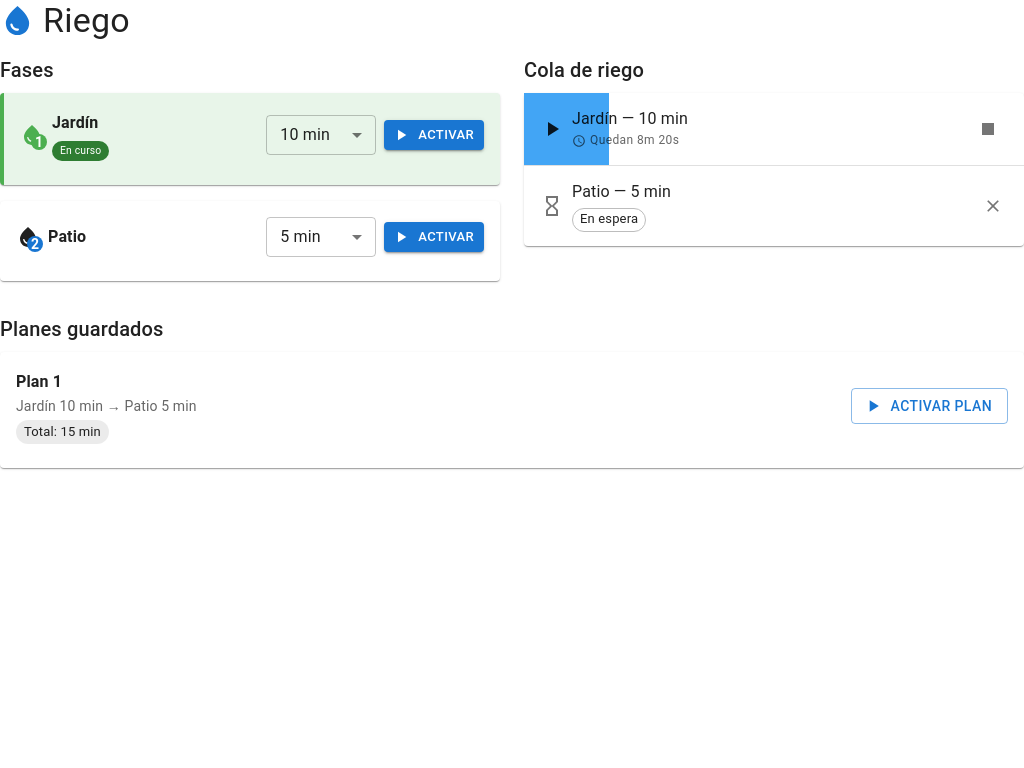
Test: RiegoPage › opens confirmation dialog when queue has items
Check: the heading "Plan 1" is shown, box [16, 372, 62, 391]
Click the button "Activar plan". click: (929, 406)
box: [851, 388, 1008, 424]
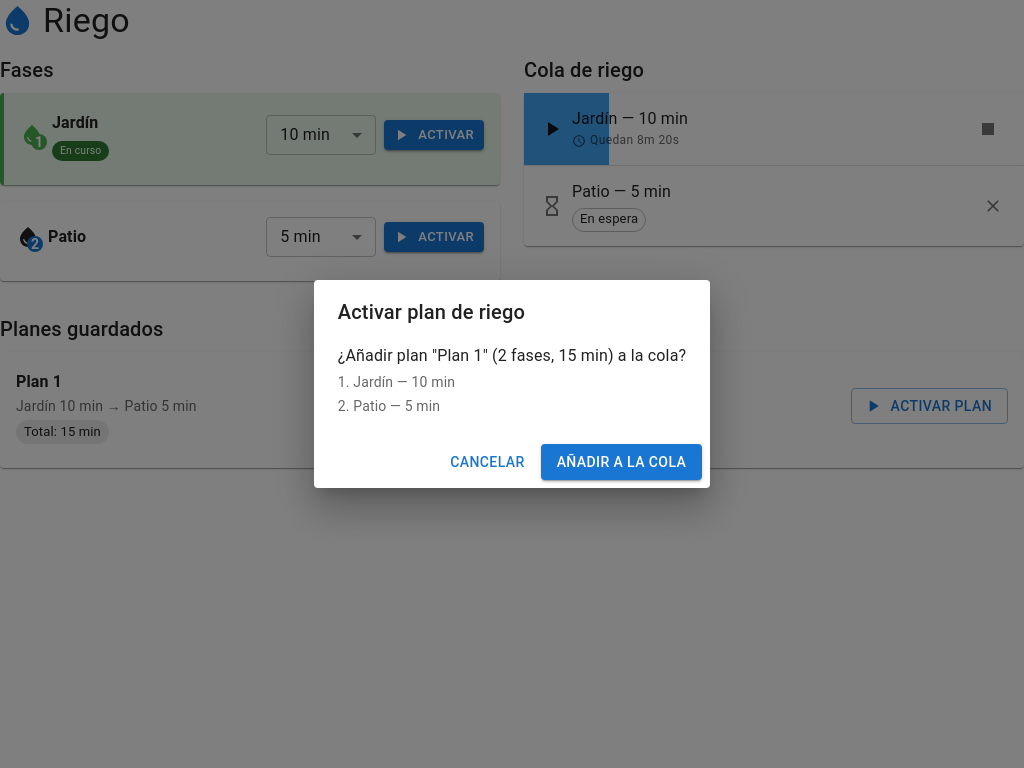
Check: the text "¿Añadir plan \"Plan 1\" (2 fases, 15 min) a la cola?" is shown, box [338, 344, 686, 368]
